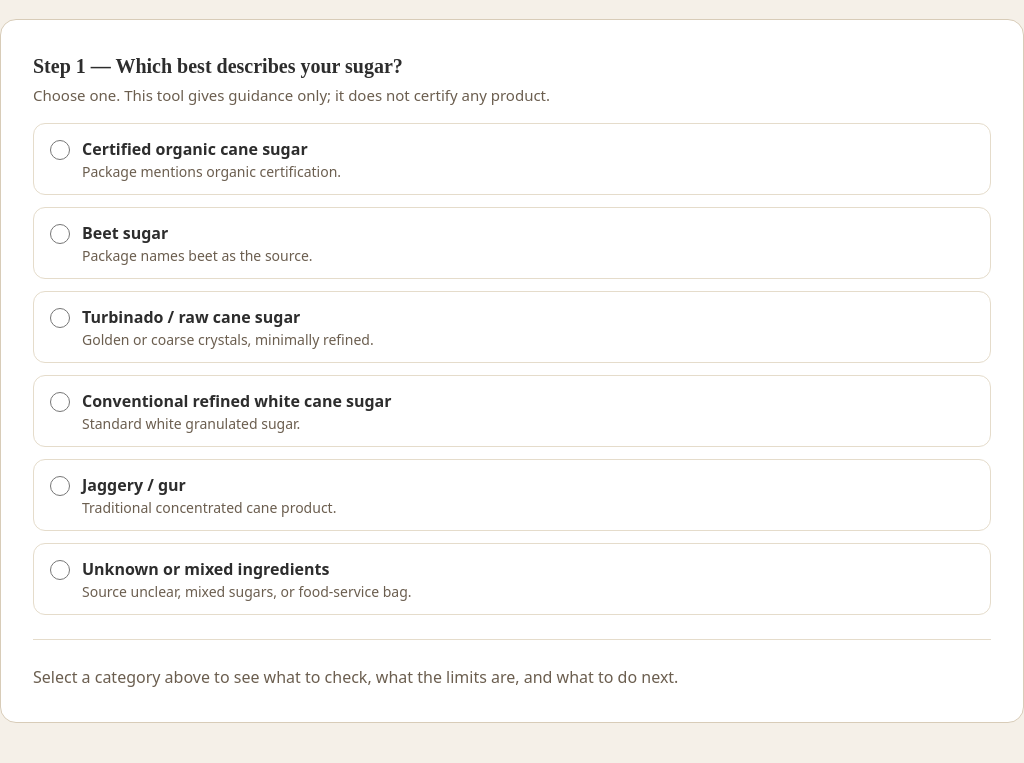
Test: sugar checker interaction › exposes an aria-live result region without moving focus
Step 1. Click the radio button labelled "Beet sugar Package names beet as the source." → (60, 234), box left=50, top=224, right=70, bottom=244
(page scrolled)
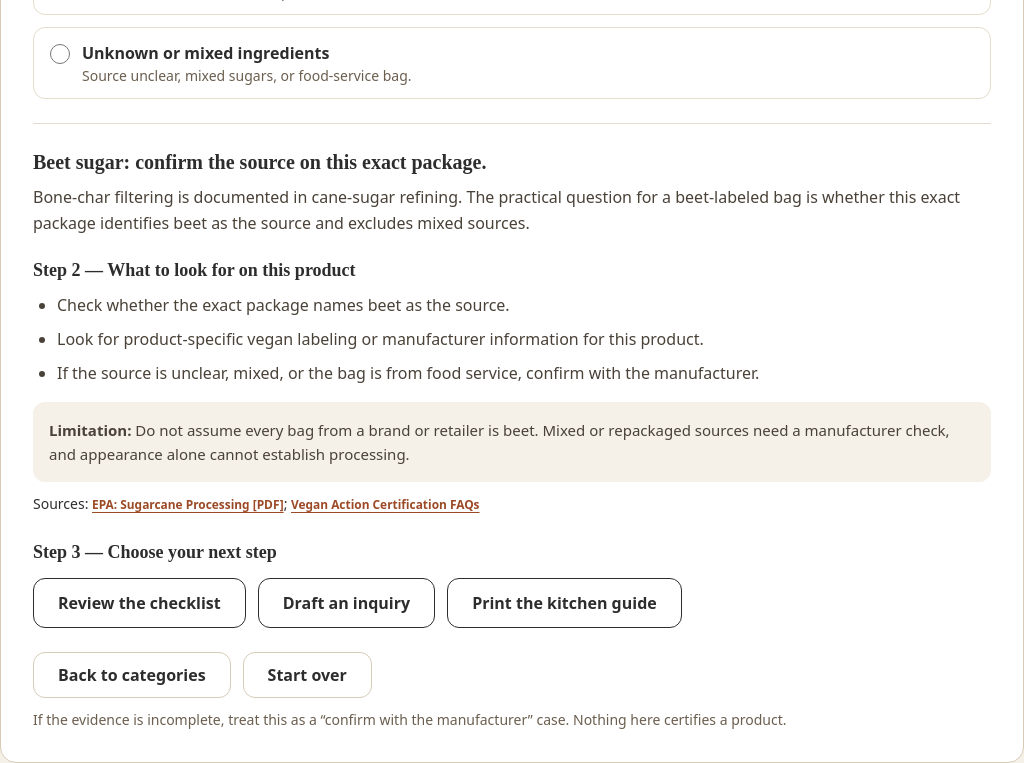
Expected: the text "confirm the source" is shown, left=33, top=150, right=486, bottom=172
